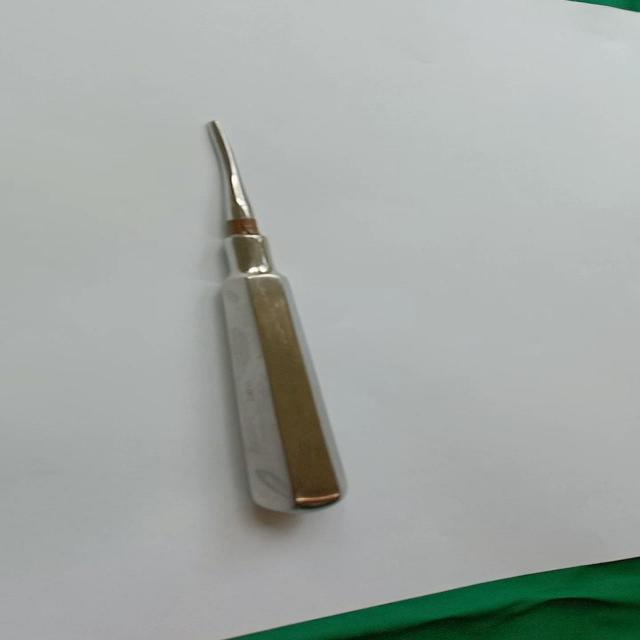Coupland1: (195, 111, 358, 516)
